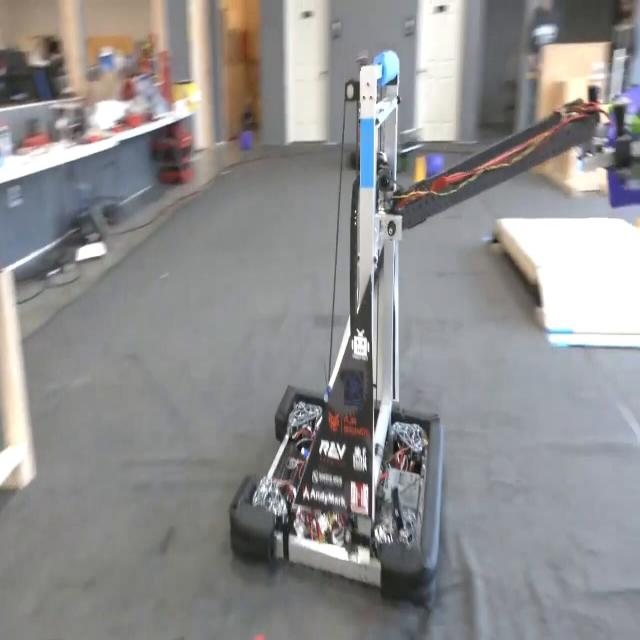frc_cube: (597, 89, 640, 209)
